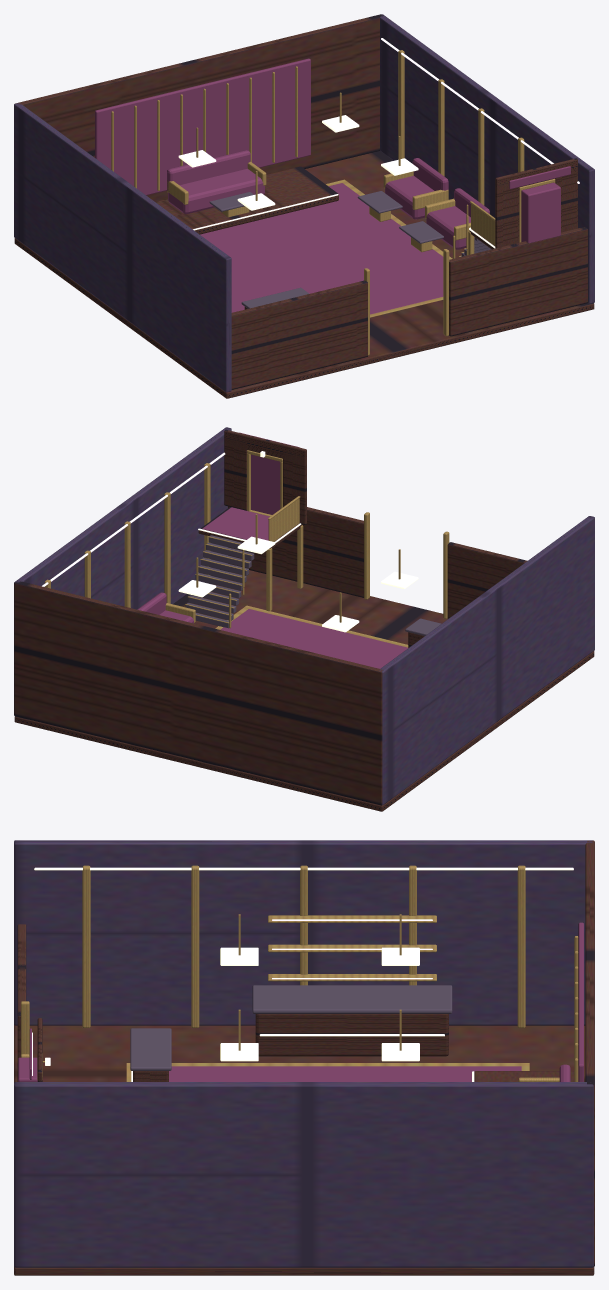
The model's file is reika-lounge.raw.glb.
The picture shows the model from 3 angles, top to bottom: view 1: azimuth 30°, elevation 25°; view 2: azimuth 150°, elevation 25°; view 3: azimuth 270°, elevation 25°; orthographic projection. The views are drawn at different scales.
Parts seen in each view (by area): view 1: side-wall, back-wall, side-wall.001, lounge-carpet, vip-backdrop, front-wall.001, front-wall, lounge-floor, vip-platform, vip-sofa-seat, mezzanine-door-recess, mezzanine-wall-l (+17 smaller); view 2: back-wall, side-wall, side-wall.001, lounge-floor, front-wall.001, lounge-carpet, front-wall, mezzanine-door-recess, mezzanine-wall-r, mezzanine-carpet, mezzanine-wall-l, mezzanine-wall-top (+6 smaller); view 3: side-wall.001, side-wall, lounge-floor, champagne-bar, champagne-bar-top, lounge-carpet, back-wall, wall-crown-light, reception-top, lounge-carpet-border, wall-pilaster, wall-pilaster.003 (+13 smaller).
Part boxes in pixels (x1,y1,x2,y2): side-wall: [14, 103, 231, 392]; back-wall: [15, 14, 383, 201]; side-wall.001: [379, 14, 594, 303]; lounge-carpet: [200, 183, 443, 314]; vip-backdrop: [95, 58, 310, 195]; front-wall.001: [449, 227, 587, 336]; front-wall: [231, 280, 367, 389]; lounge-floor: [14, 151, 594, 398]; vip-platform: [155, 166, 338, 234]; vip-sofa-seat: [168, 168, 264, 214]; mezzanine-door-recess: [521, 182, 560, 243]; mezzanine-wall-l: [495, 183, 519, 248]; back-wall: [14, 581, 383, 805]; side-wall: [379, 516, 594, 805]; side-wall.001: [14, 427, 231, 714]; lounge-floor: [14, 570, 594, 811]; front-wall.001: [228, 506, 363, 597]; lounge-carpet: [220, 609, 407, 668]; front-wall: [447, 542, 527, 618]; mezzanine-door-recess: [251, 454, 280, 514]; mezzanine-wall-r: [224, 437, 247, 510]; mezzanine-carpet: [202, 507, 269, 540]; mezzanine-wall-l: [283, 452, 306, 524]; mezzanine-wall-top: [224, 429, 306, 462]; side-wall.001: [14, 1082, 593, 1267]; side-wall: [14, 840, 593, 1025]; lounge-floor: [14, 1024, 594, 1275]; champagne-bar: [255, 1014, 448, 1056]; champagne-bar-top: [252, 985, 452, 1013]; lounge-carpet: [169, 1066, 521, 1081]; back-wall: [585, 840, 594, 1266]; wall-crown-light: [34, 867, 573, 870]; reception-top: [130, 1028, 171, 1070]; lounge-carpet-border: [126, 1063, 529, 1081]; wall-pilaster: [517, 865, 525, 1027]; wall-pilaster.003: [191, 865, 199, 1027].
Bounding box in the file's own units: 14.44 × 5.46 × 14.42.
5 materials, 1 textured.
